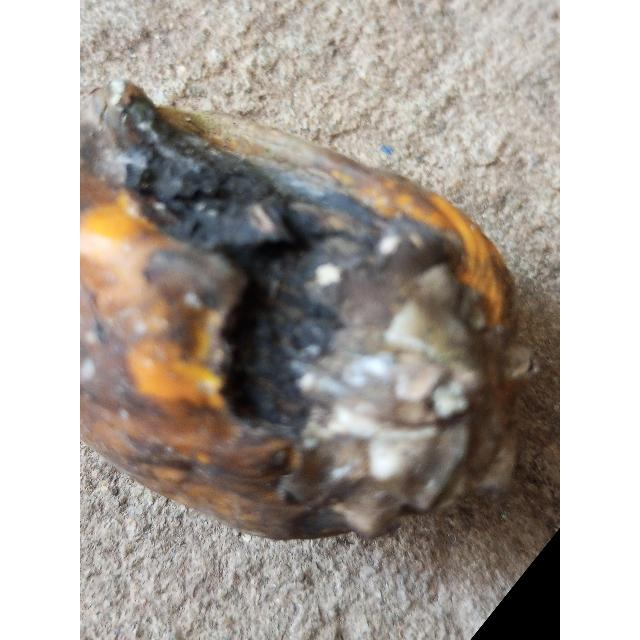damaged: (80, 80, 534, 539)
